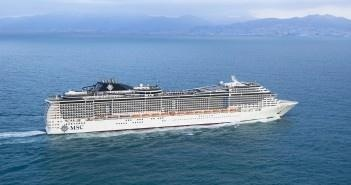youlun: (43, 76, 296, 135)
